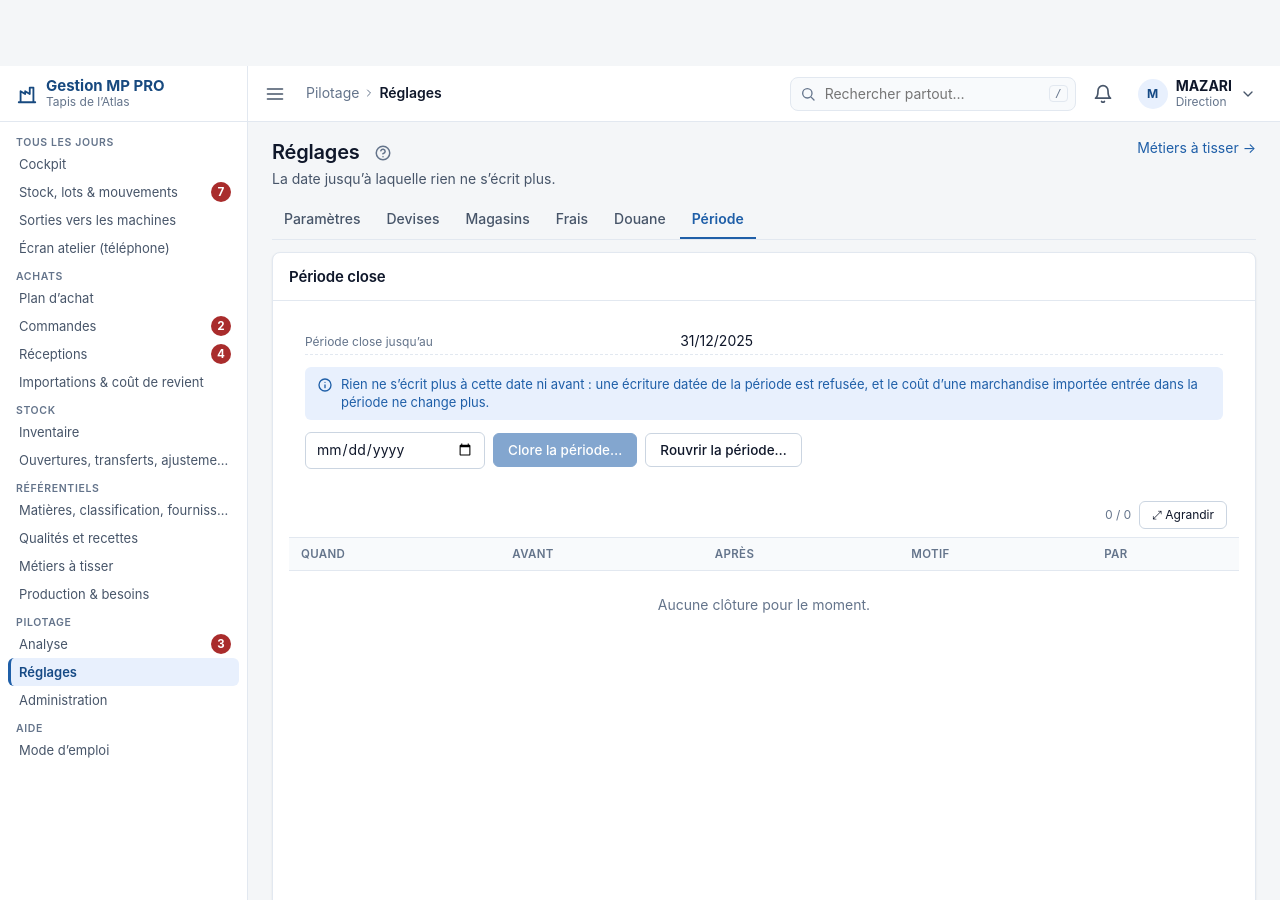
it: Réglages › clore la période : les brouillons datés de la période sont annoncés avant la fenêtre (route 246)
The width and height of the screenshot is (1280, 900).
(page scrolled)
Type "2026-06-30" into the date field named "Clore jusqu’au" at (395,450), box [305,432,485,469]
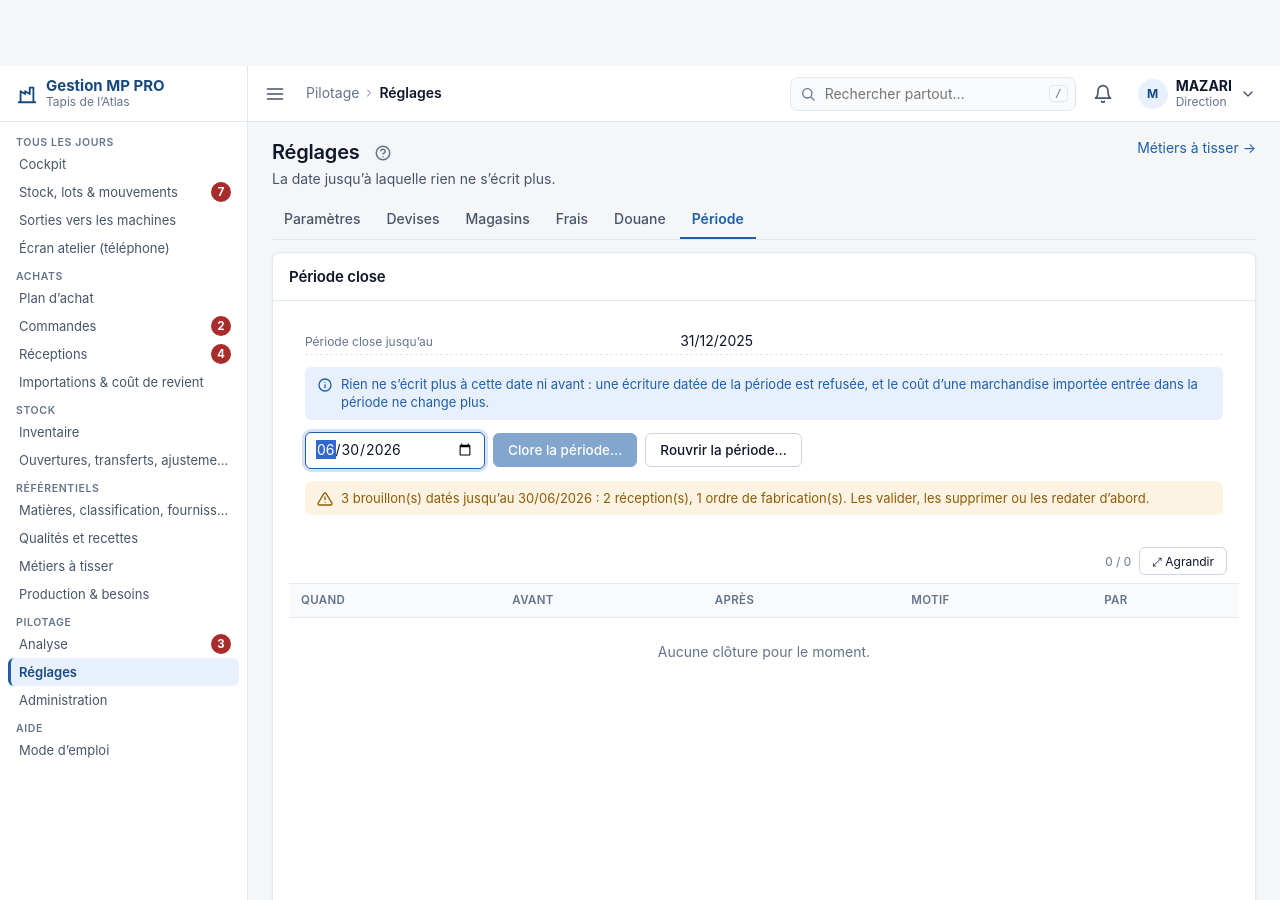
Expected: the button "Clore la période…" is disabled, [493,433,637,467]
Expected: the text "3 brouillon(s) datés jusqu’au 30/06/2026 : 2 réception(s), 1 ordre de fabrication(s). Les" is shown, [341,489,1149,507]
